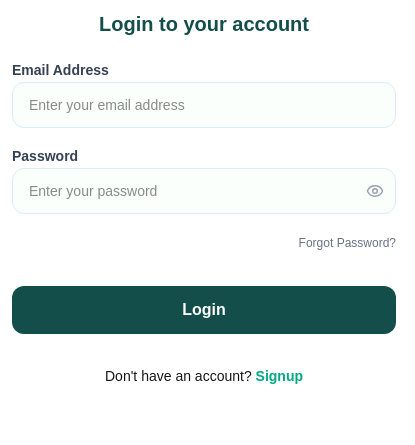
Test: LoginForm › shows error on empty submit
Click the button "Login" at (204, 310), box top-left (12, 286), bottom-right (396, 334)
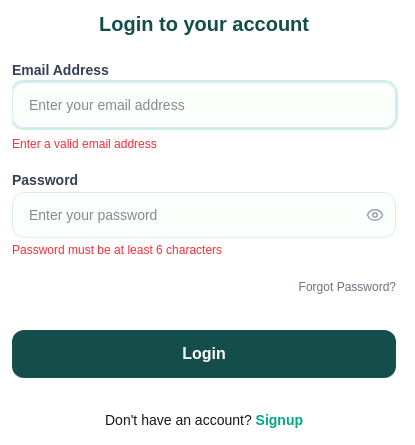
Expected: the text "Enter a valid email address" is shown, top-left (12, 137), bottom-right (157, 151)
Expected: the text "Password must be at least 6 characters" is shown, top-left (12, 243), bottom-right (222, 257)
